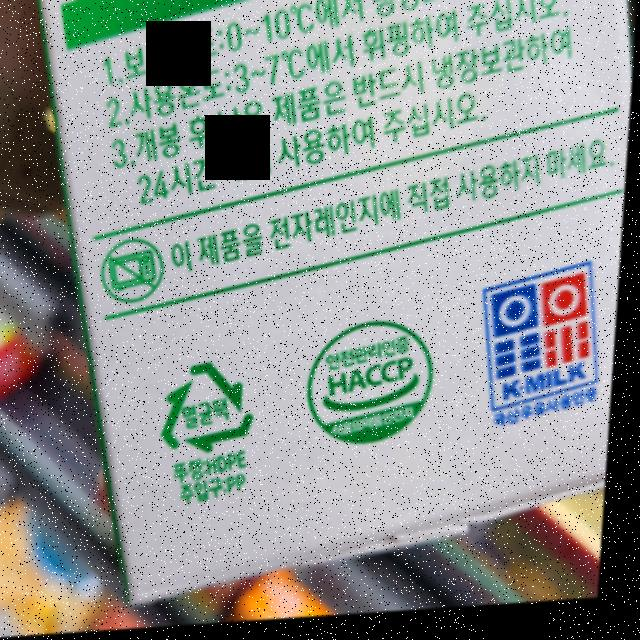SterilizedPack: (163, 357, 267, 458)
